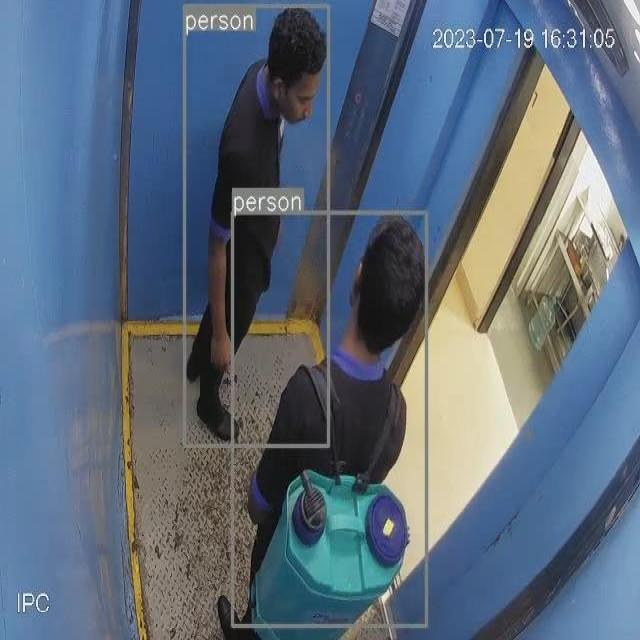person: (233, 216, 428, 628), (184, 8, 329, 447)
